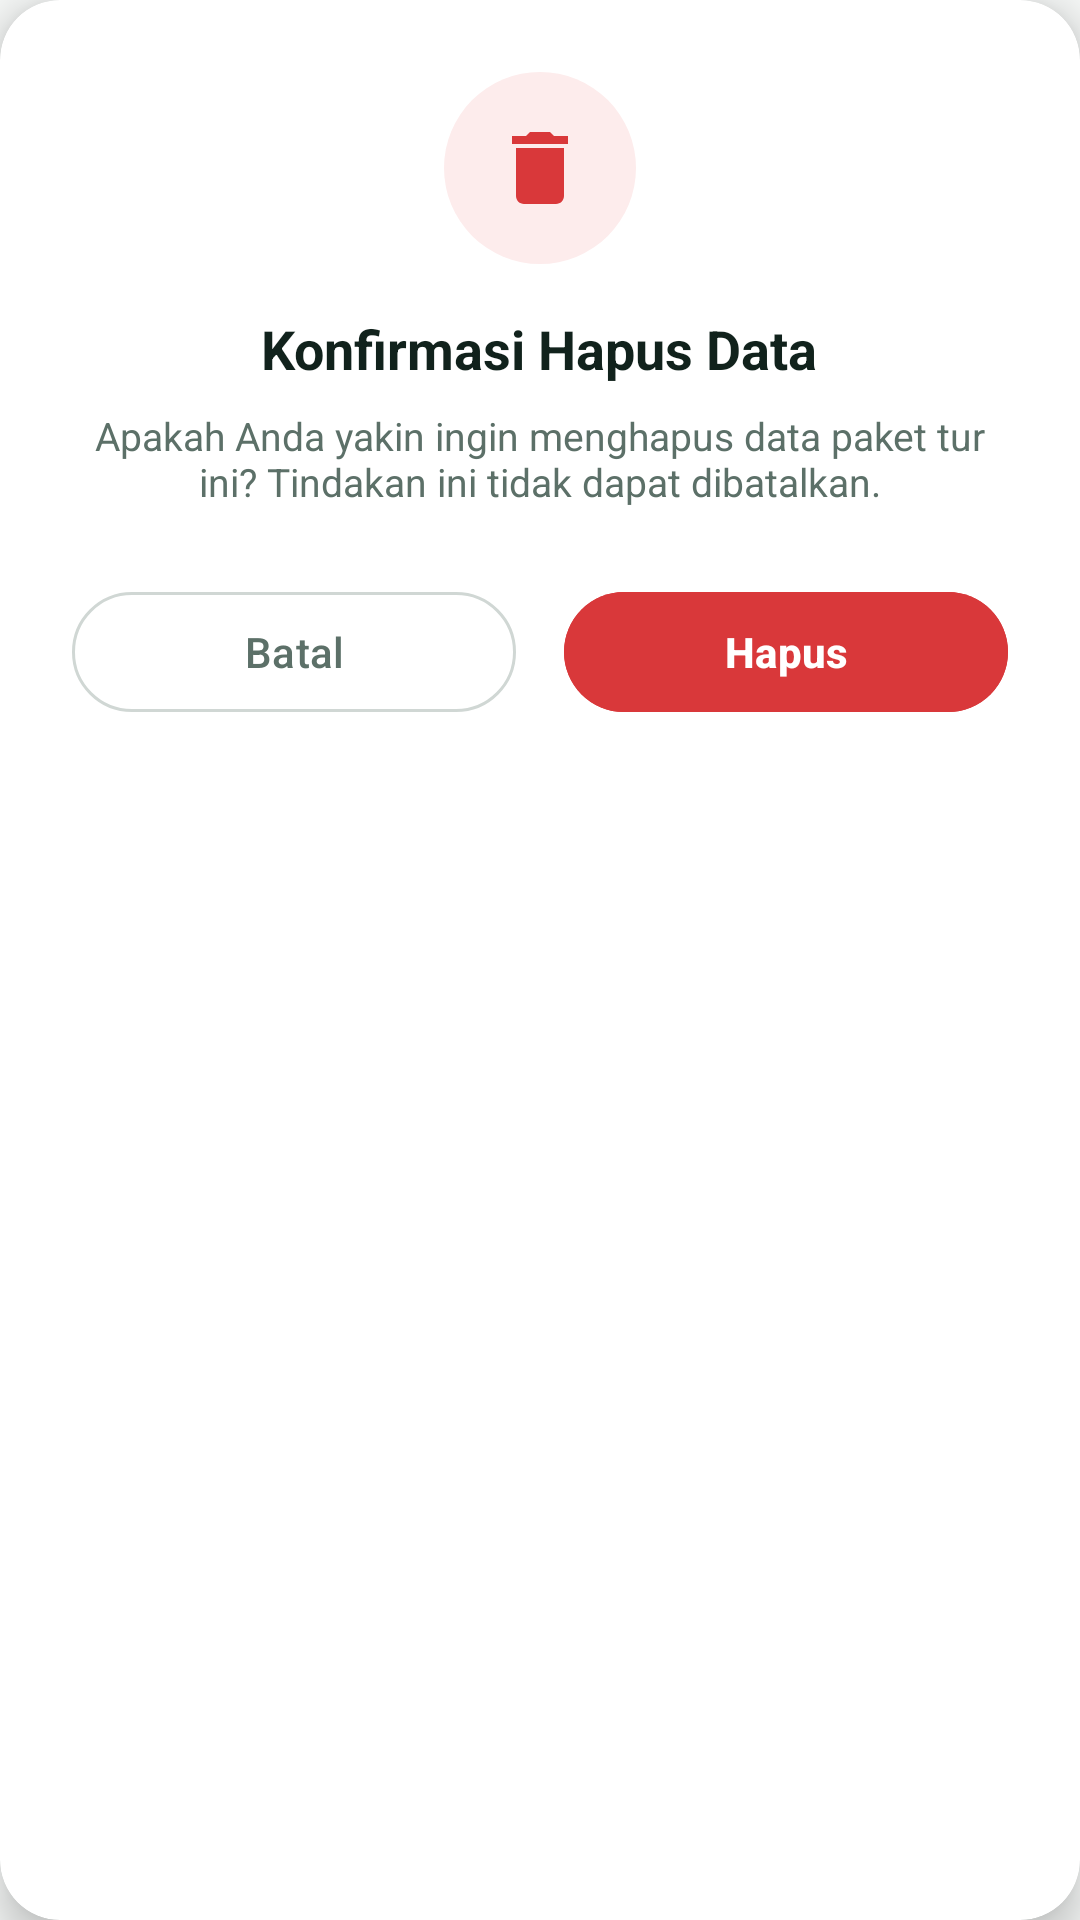

Icon click points for this 1080px x 1920px phone screenshot, format (x=x, y=y):
delete: (x=540, y=168)
